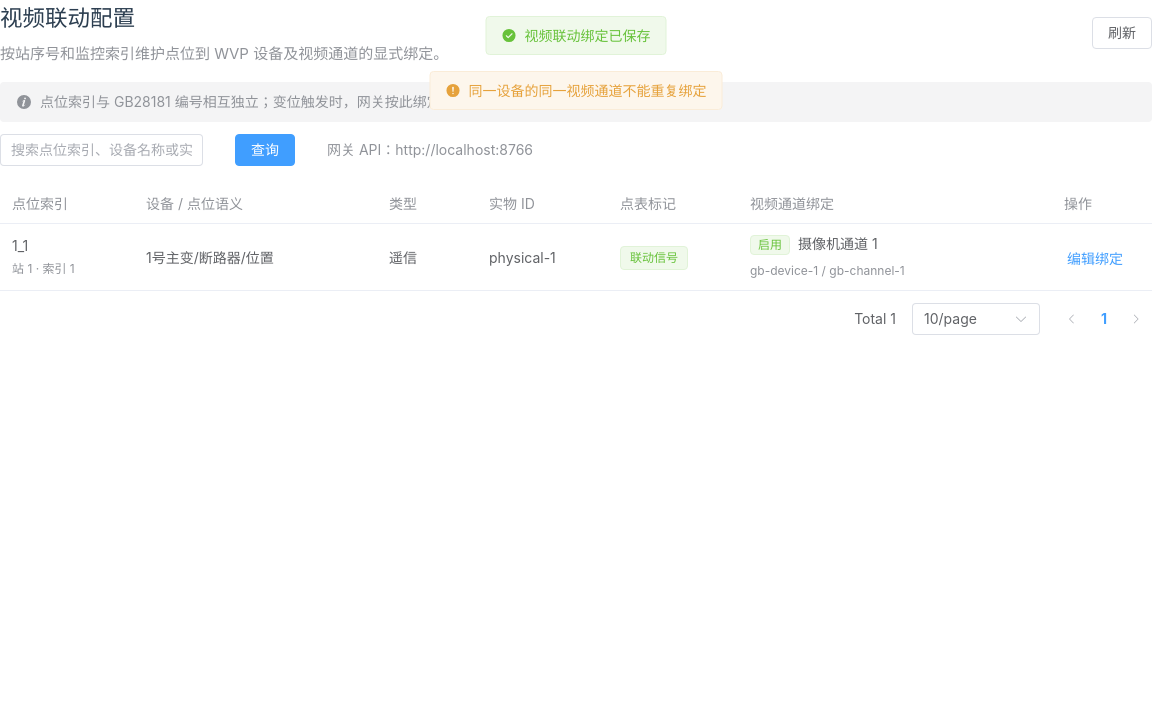
LinkageBindingsView › clears existing bindings when the last channel is removed
Step 1. Click the button "编辑绑定" → [1095, 259], box 1064,249 -> 1126,269
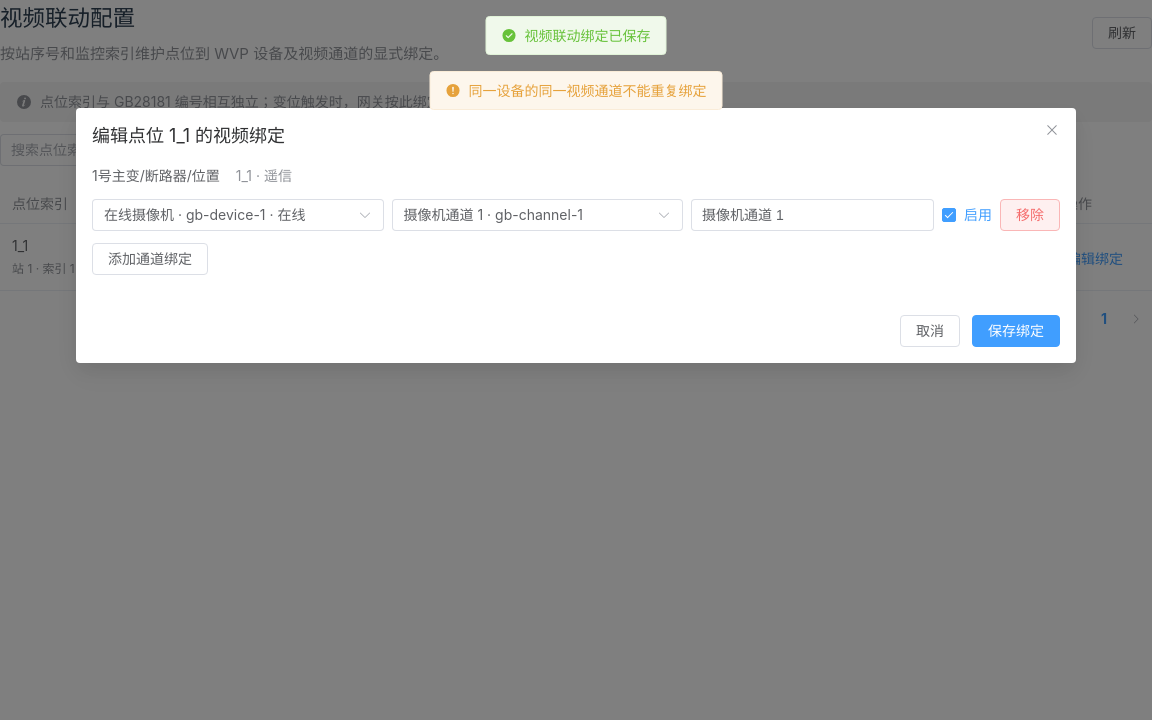
Step 2. Click the button "移除" → [1030, 215], box 1000,199 -> 1060,231
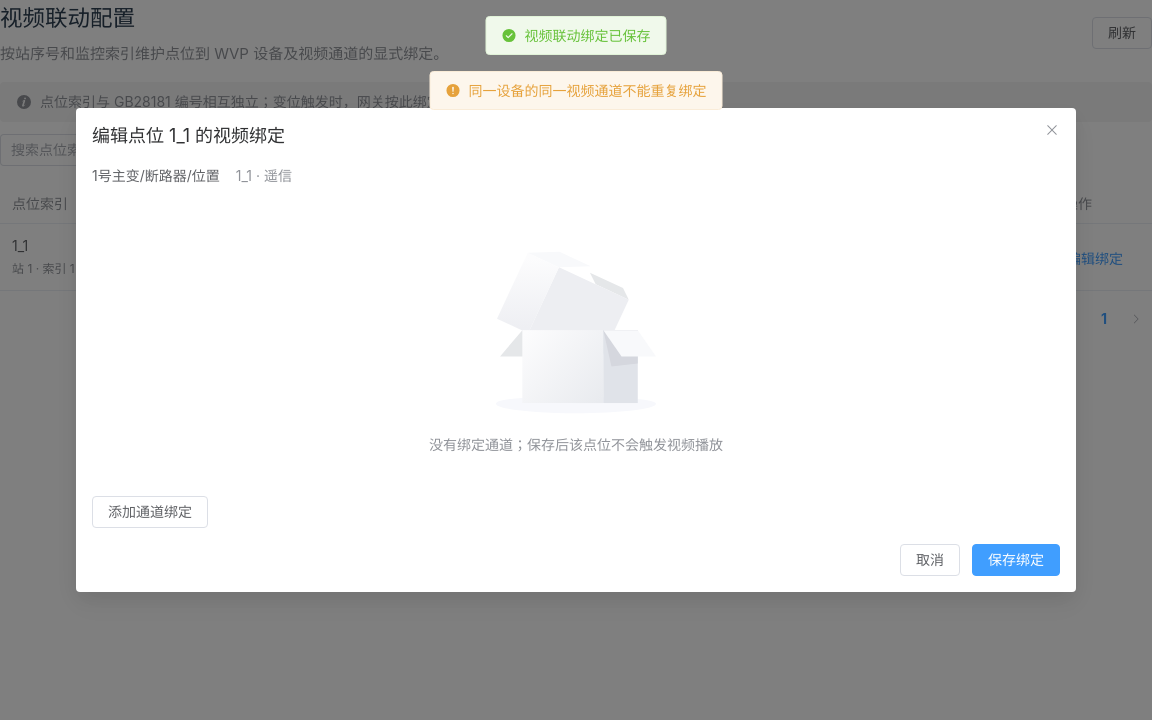
Step 3. Click the button "保存绑定" → [1016, 560], box 972,544 -> 1060,576
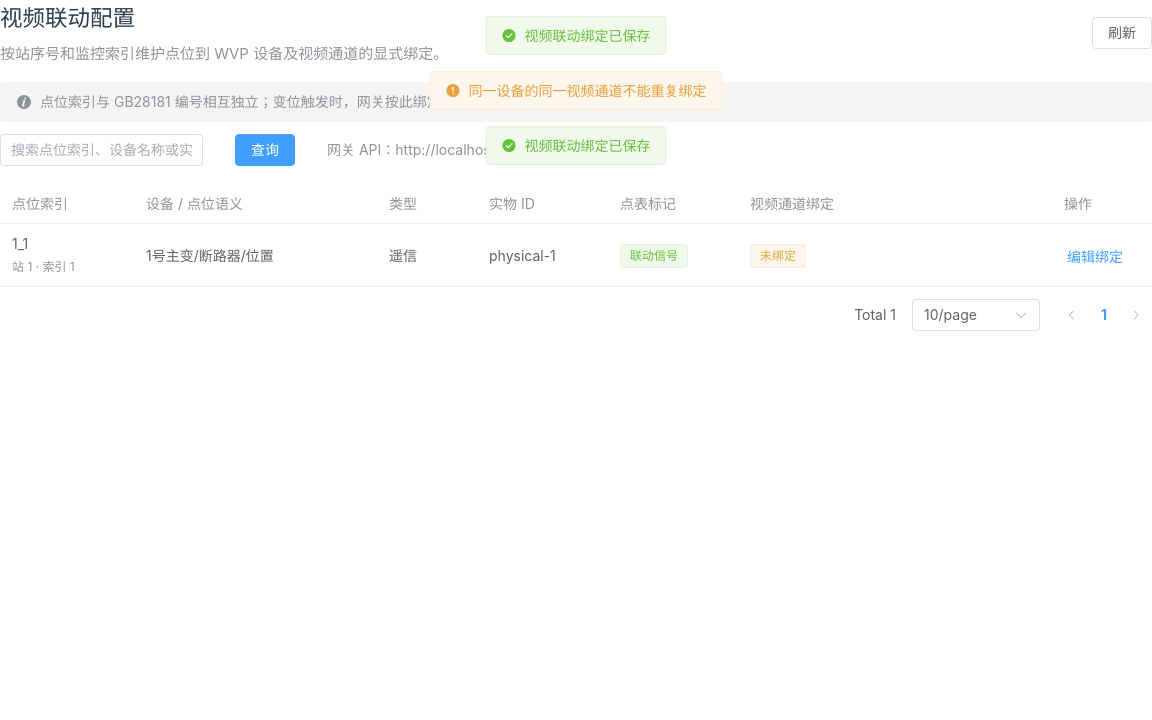
Now the text "未绑定" is shown, box 760,250 -> 796,262
